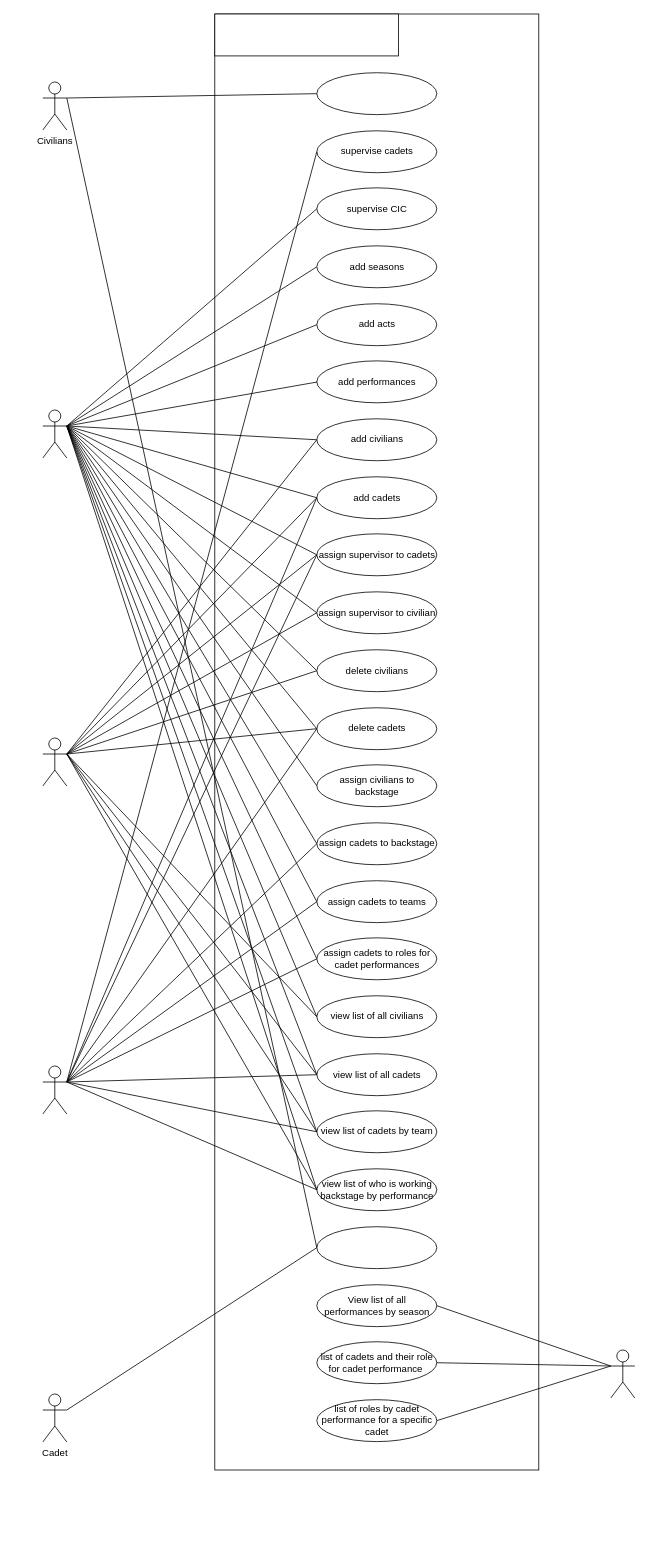
Some shapes in this 653 by 1548 pixel diagram are drawn without their labels. Here are the shapes that lost their labels. From the top down, the centre of each, then its label:
the point at 306,34: Ike Hall Information System
the point at 376,93: supervise civilians
the point at 54,433: Director of Theatre Operations
the point at 54,761: Director of Personel
the point at 54,1089: CIC
the point at 376,1247: view list of performances assigned to work
the point at 622,1373: Anyone
